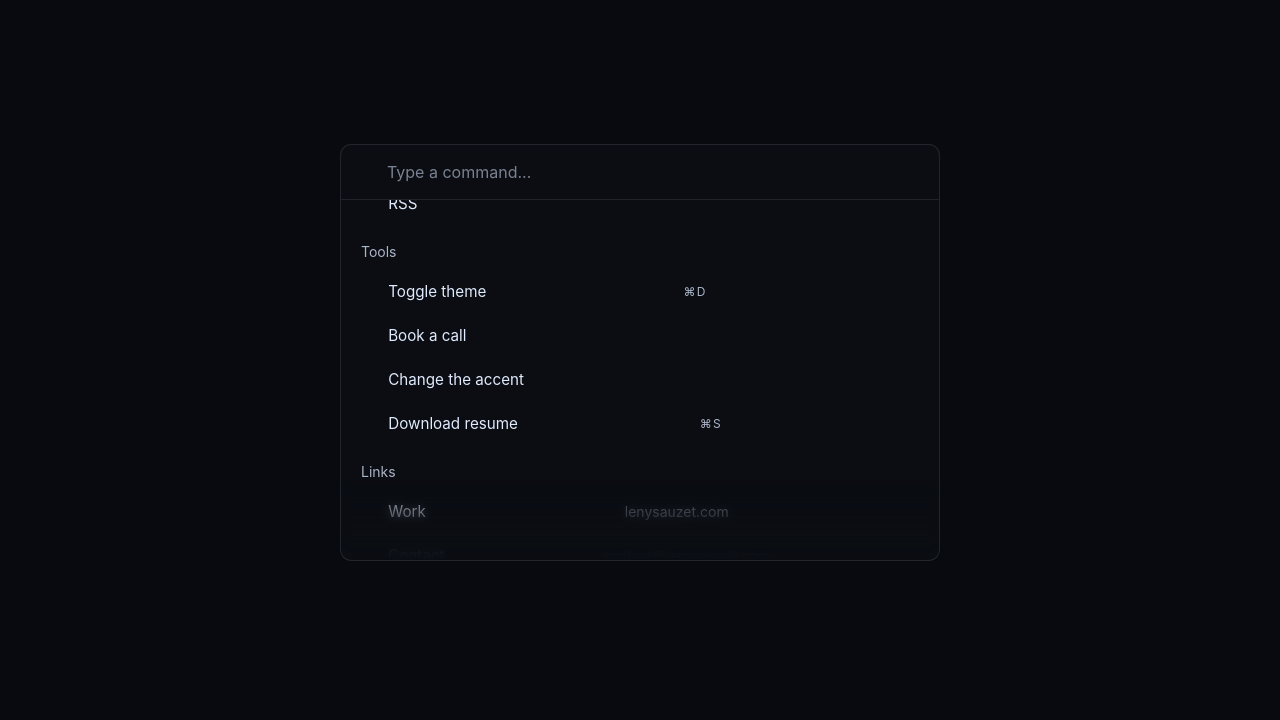
Test case: CommandPalette › says how to get back, and only while that is what the key does
This screenshot has width=1280, height=720.
(page scrolled)
Expected: the text "Back" is not shown
Click the option "Change the accent" at coordinates (456, 380), box left=388, top=370, right=524, bottom=389
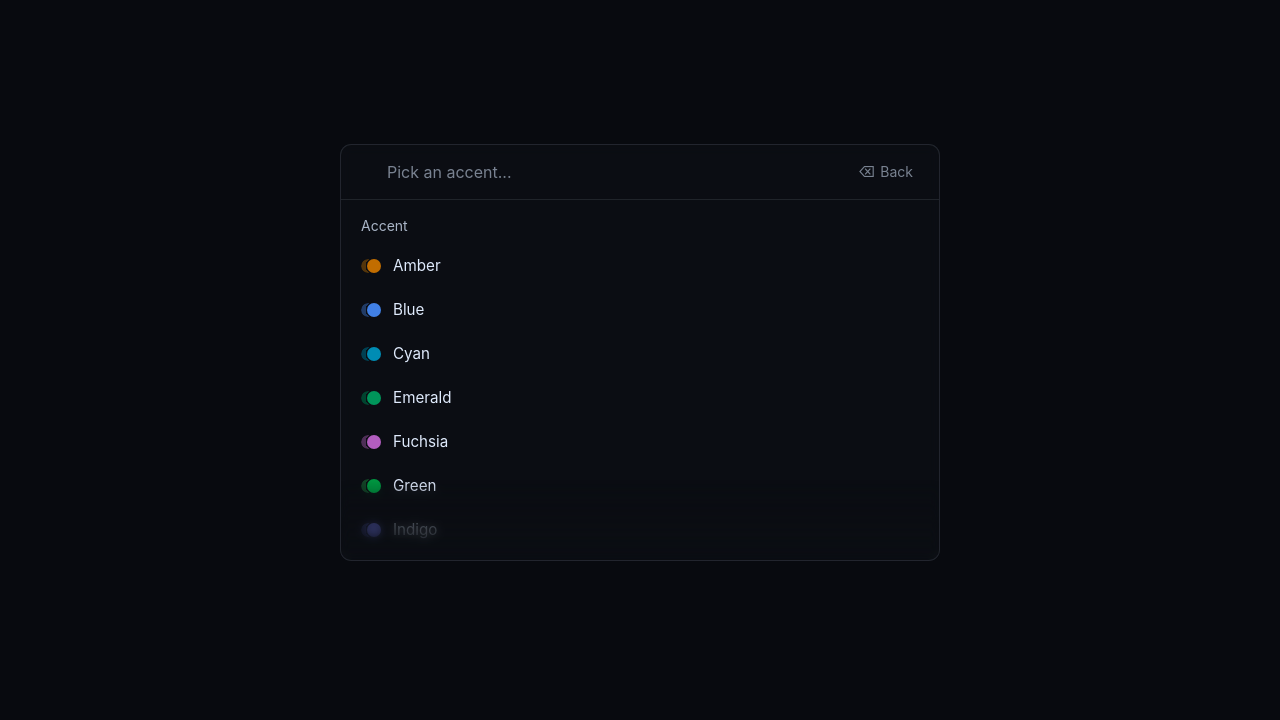
Now the button "⌫ Back" is shown, box left=850, top=158, right=921, bottom=186
Type keys "te"
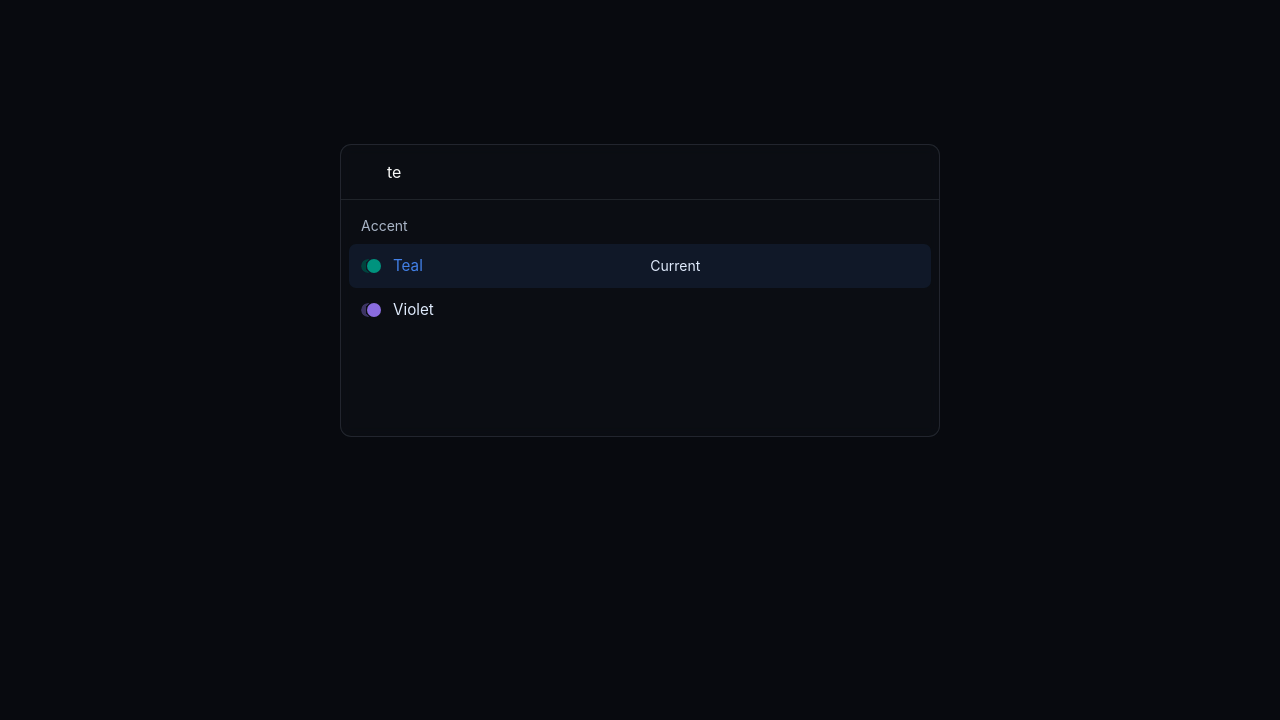
Now the button "Back" is gone
